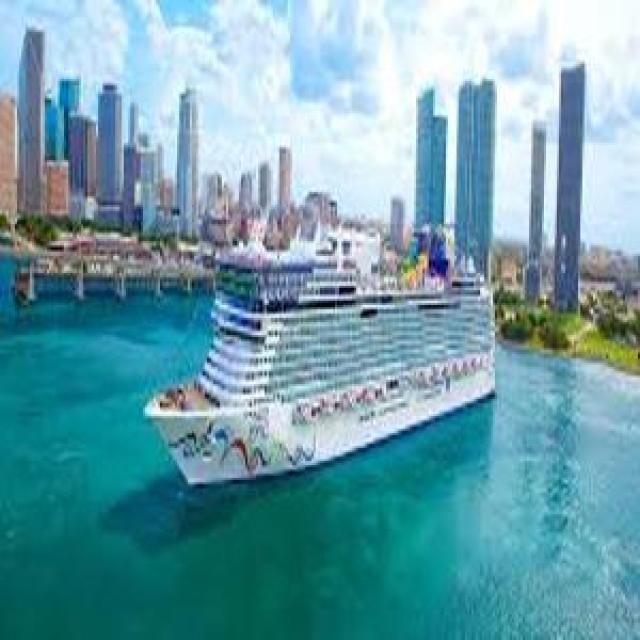passenger ship: (143, 220, 509, 480)
